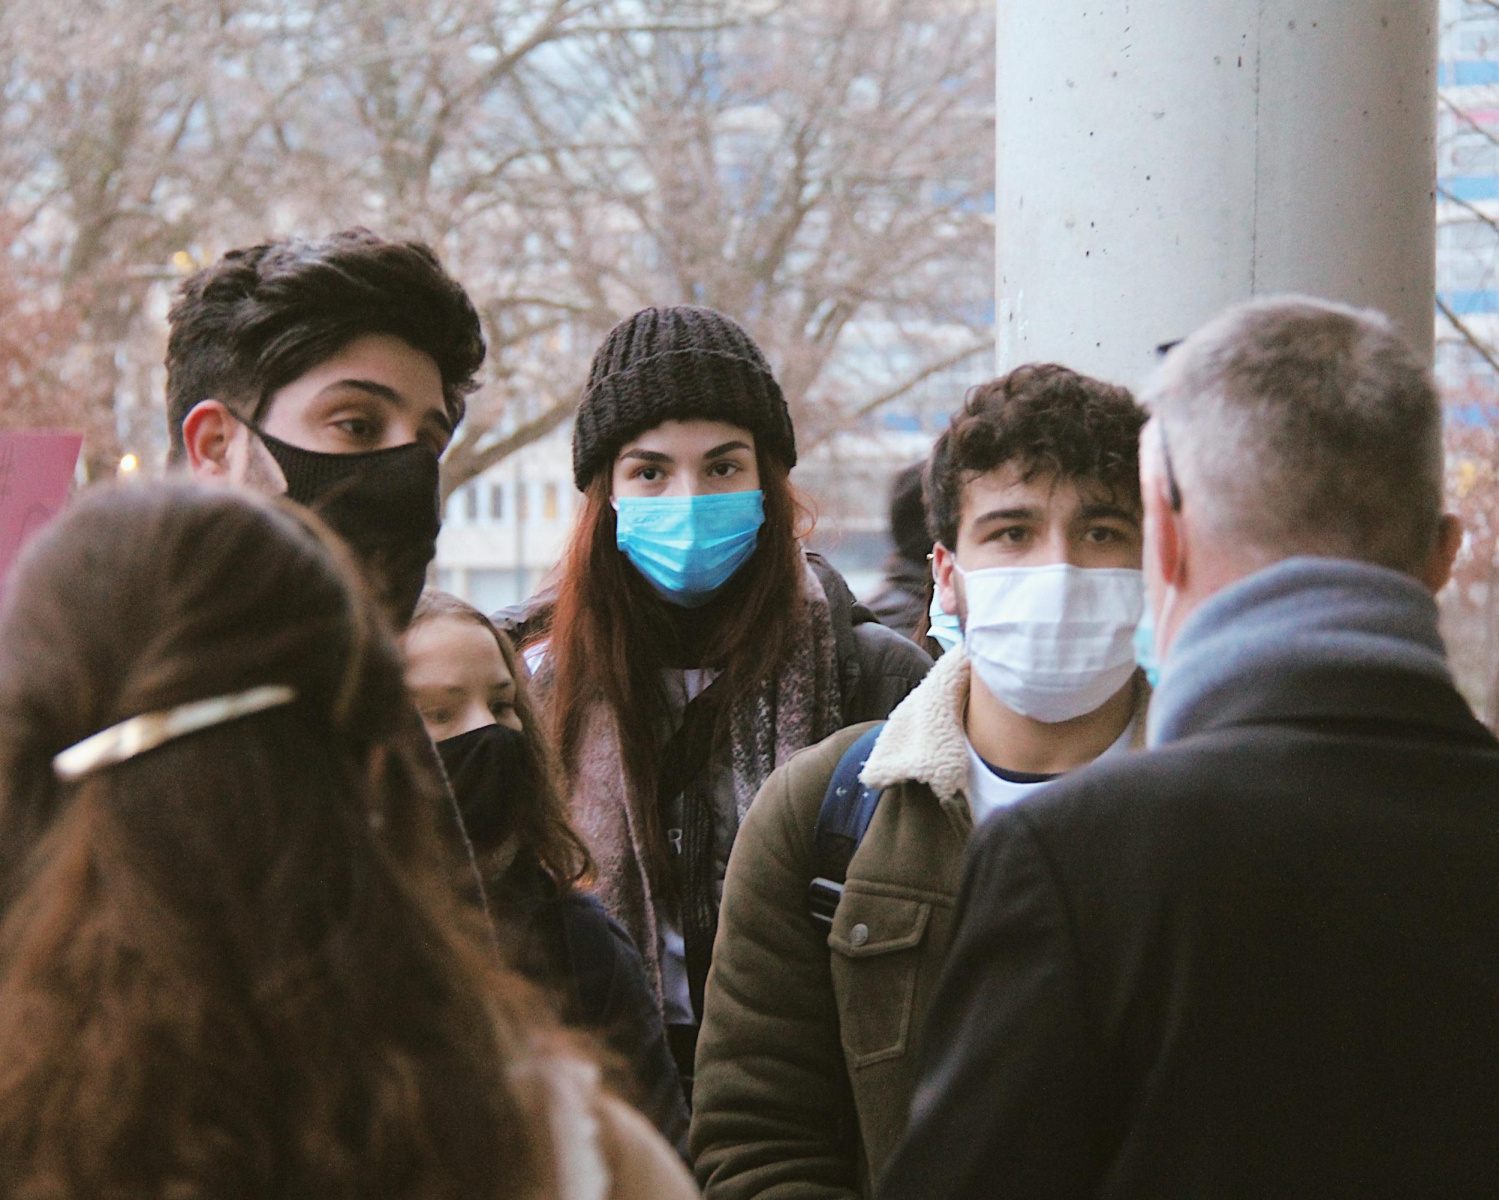with_mask: (280, 365, 450, 628), (965, 480, 1136, 713), (612, 433, 772, 592)
